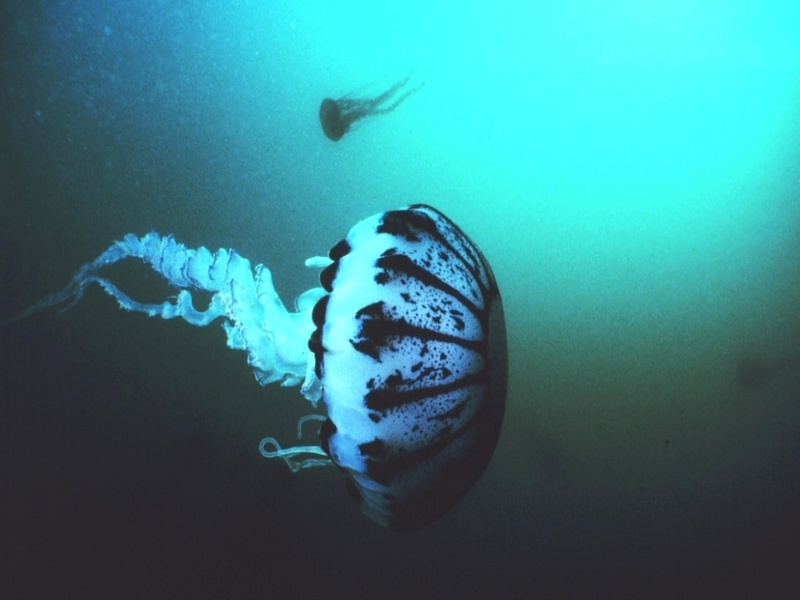Jellyfish: (0, 204, 509, 532), (317, 70, 422, 144)
